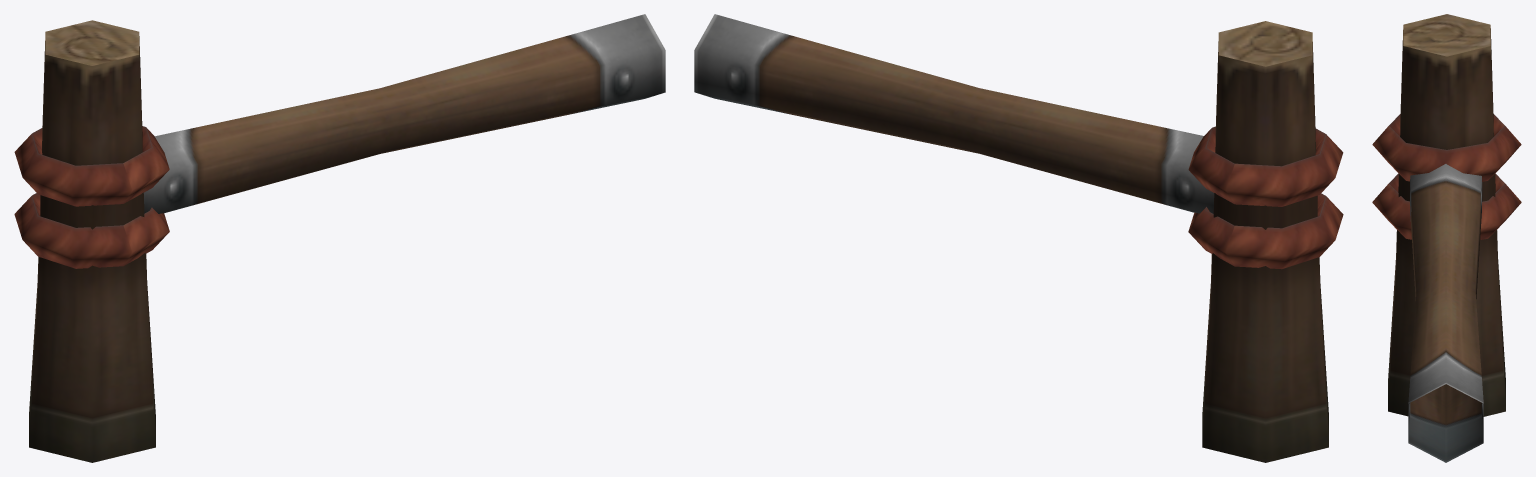
3 renders of one model, left to right at view 1: azimuth 30°, elevation 25°; view 2: azimuth 150°, elevation 25°; view 3: azimuth 270°, elevation 25°, orthographic. The views are drawn at different scales.
Visible parts, largest first — view 1: wq_wj007_01; view 2: wq_wj007_01; view 3: wq_wj007_01.
Boxes of the visible parts, left/top/right/bottom form: wq_wj007_01: left=14, top=14, right=665, bottom=462; wq_wj007_01: left=694, top=14, right=1343, bottom=462; wq_wj007_01: left=1372, top=14, right=1521, bottom=462.
Size of the model in its own units: 158 by 94.05 by 35.31.
Materials: 1 (1 with a texture image).
